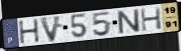5: (91, 10, 113, 37), (69, 13, 89, 40)
H: (17, 18, 41, 45), (139, 7, 163, 33)
N: (116, 8, 142, 35)
V: (39, 15, 64, 44)
